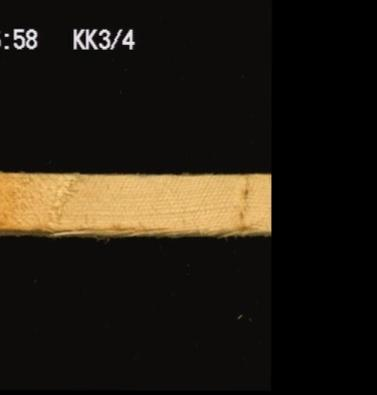small_knot: (222, 175, 269, 228)
